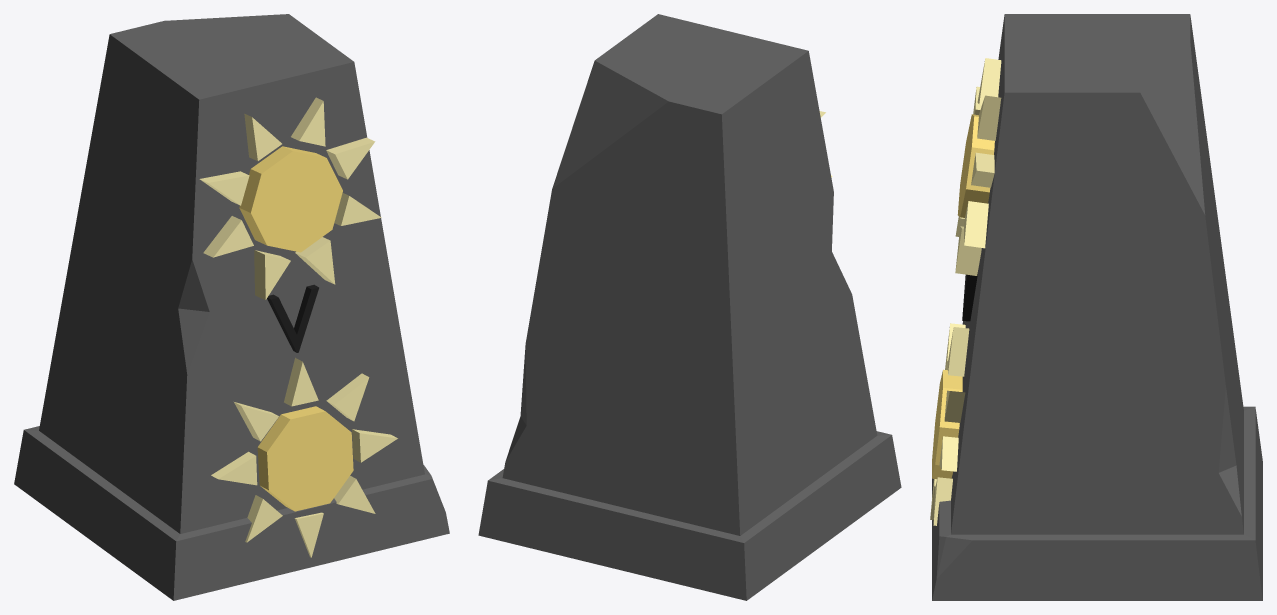
Rendered from SUN TOTEM.fbx.
The picture shows the model from 3 angles, left to right: view 1: azimuth 30°, elevation 25°; view 2: azimuth 150°, elevation 25°; view 3: azimuth 270°, elevation 25°; orthographic projection. The views are drawn at different scales.
Visible parts, largest first — view 1: Cube.248; view 2: Cube.248; view 3: Cube.248.
Boxes of the visible parts, x1,y1,x2,y2 form: Cube.248: (14,14,449,600); Cube.248: (478,14,901,600); Cube.248: (930,14,1262,600).
Size of the model in its own units: 263 by 419 by 265.
